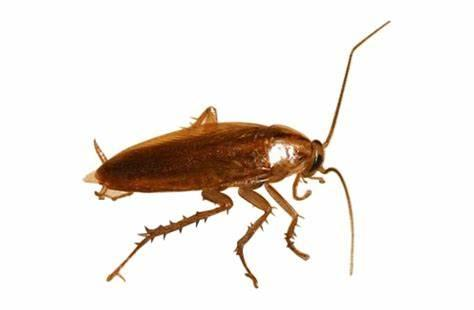cockroach: (80, 104, 330, 220)
